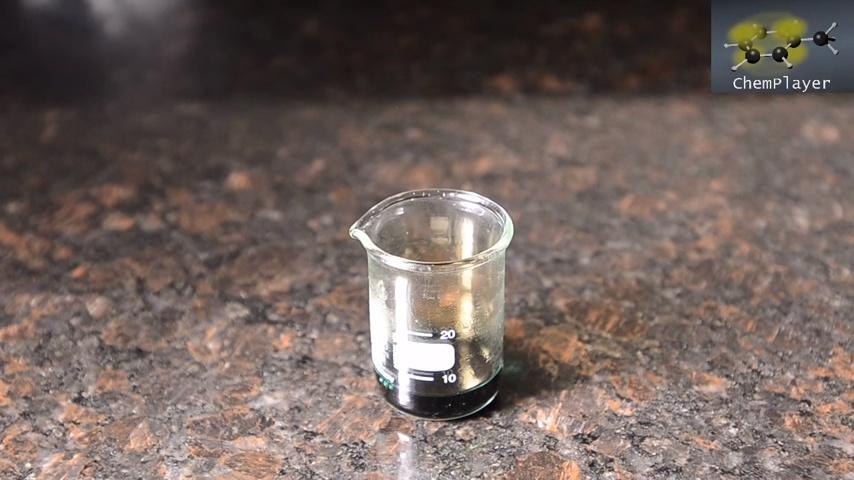Beaker: (339, 179, 557, 426)
